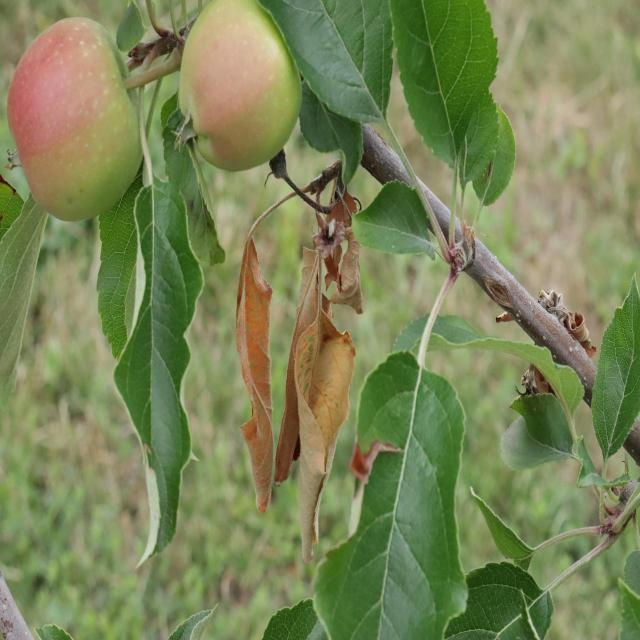-FireBlight-: (300, 205, 366, 551), (226, 230, 278, 500), (552, 291, 592, 355)
